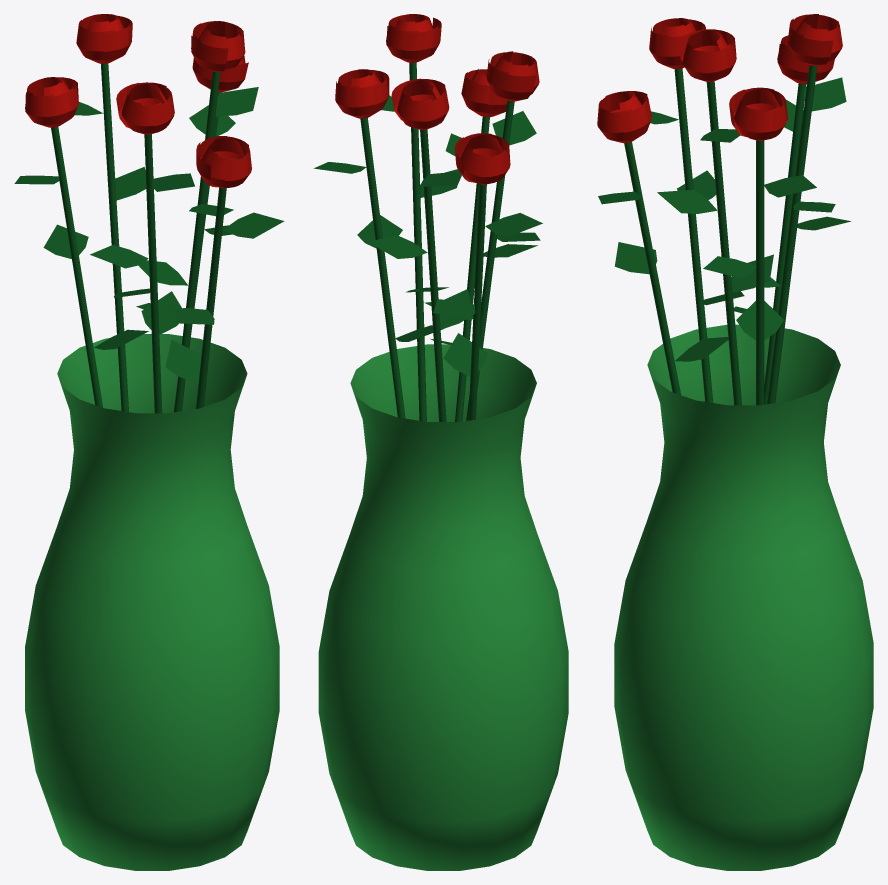
Rendered from vase1.fbx.
The picture shows the model from 3 angles, left to right: view 1: azimuth 30°, elevation 25°; view 2: azimuth 150°, elevation 25°; view 3: azimuth 270°, elevation 25°; orthographic projection. The views are drawn at different scales.
Visible parts, largest first — view 1: 1:1, 4:1, 10:1, 14:1, 6:1, 12:1, 11:1, 5:1, 9:1, 13:1, 3:1, 8:1; view 2: 1:1, 6:1, 12:1, 8:1, 10:1, 14:1, 7:1, 13:1, 11:1, 4:1, 5:1, 9:1 (+1 smaller); view 3: 1:1, 8:1, 14:1, 4:1, 12:1, 11:1, 10:1, 13:1, 9:1, 7:1, 3:1, 5:1 (+1 smaller).
Part boxes in pixels (x1,y1,x2,y2): 1:1: [25, 334, 279, 870]; 4:1: [165, 136, 284, 383]; 10:1: [90, 82, 194, 334]; 14:1: [138, 21, 258, 285]; 6:1: [14, 77, 148, 349]; 12:1: [74, 14, 150, 297]; 11:1: [101, 63, 128, 411]; 5:1: [51, 127, 102, 407]; 9:1: [144, 134, 162, 413]; 13:1: [174, 71, 220, 412]; 3:1: [196, 187, 226, 408]; 8:1: [136, 56, 248, 309]; 1:1: [318, 344, 568, 870]; 6:1: [433, 133, 542, 376]; 12:1: [367, 78, 470, 329]; 8:1: [313, 69, 443, 341]; 10:1: [424, 51, 540, 319]; 14:1: [381, 14, 459, 292]; 7:1: [360, 118, 405, 418]; 13:1: [409, 62, 426, 421]; 11:1: [420, 129, 446, 421]; 4:1: [430, 69, 537, 344]; 5:1: [468, 184, 486, 420]; 9:1: [466, 100, 514, 420]; 1:1: [614, 324, 873, 870]; 8:1: [703, 87, 816, 340]; 14:1: [657, 29, 773, 292]; 4:1: [597, 91, 728, 361]; 12:1: [764, 14, 846, 287]; 11:1: [767, 65, 817, 404]; 10:1: [649, 18, 744, 305]; 13:1: [706, 81, 741, 405]; 9:1: [674, 68, 713, 402]; 7:1: [756, 140, 764, 405]; 3:1: [624, 142, 680, 394]; 5:1: [764, 83, 806, 404].
Size of the model in its own units: 0.2696 by 0.9091 by 0.2777.
